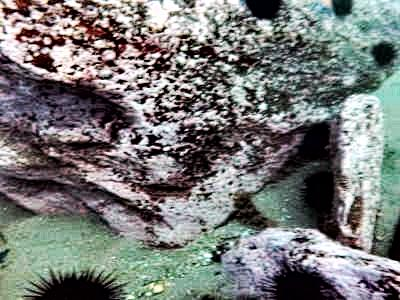urchin: (22, 265, 120, 297), (265, 265, 335, 296), (302, 166, 338, 211), (302, 118, 334, 159), (245, 2, 283, 20), (371, 40, 394, 62)
